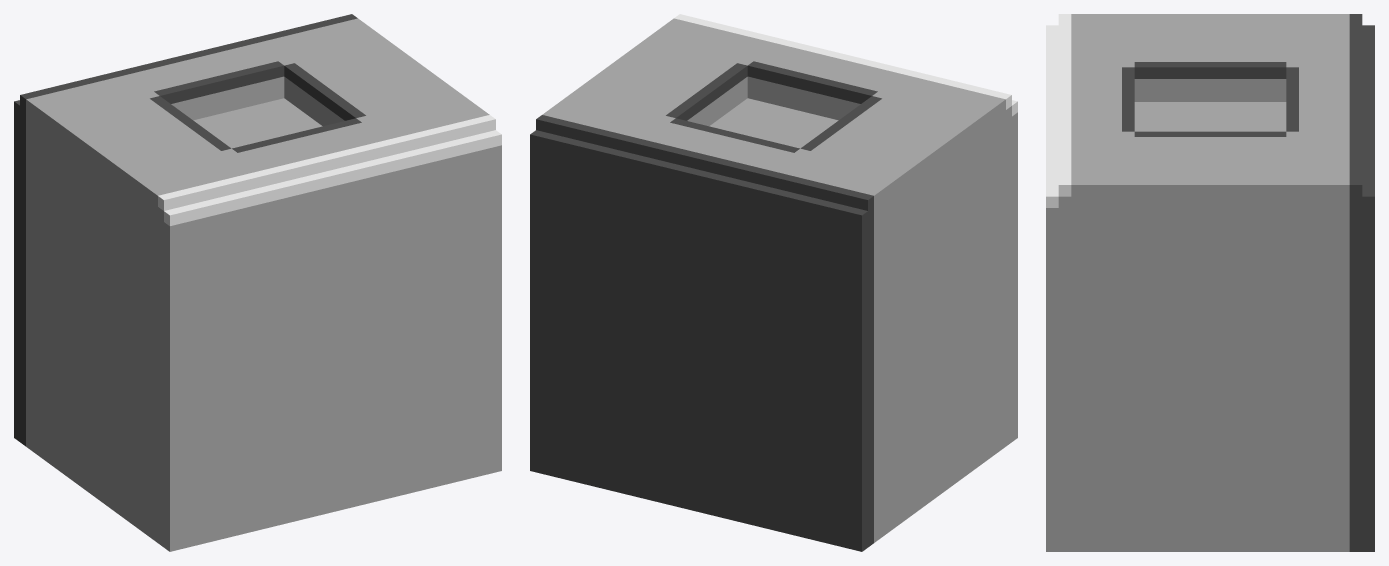
File: Wall1.obj
3 views of the same model, side by side, from view 1: azimuth 30°, elevation 25°; view 2: azimuth 150°, elevation 25°; view 3: azimuth 270°, elevation 25° (orthographic). The views are drawn at different scales.
Bounding box in the file's own units: 32 × 32 × 26.
1 material, 1 textured.
